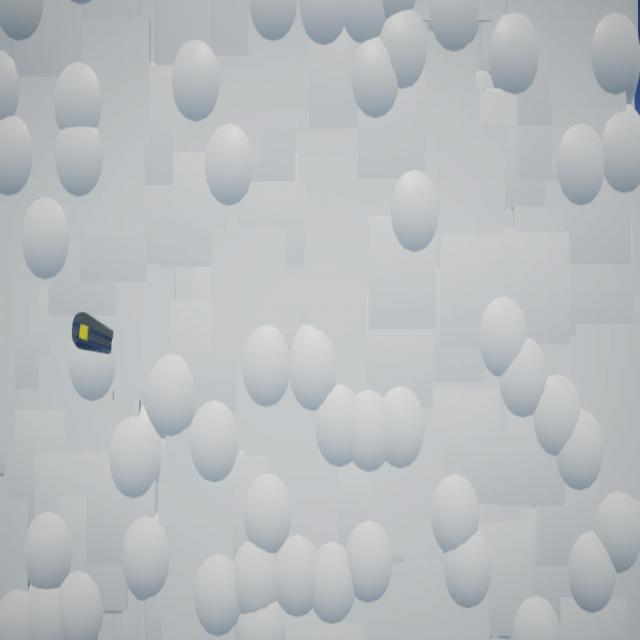handle_folk: (72, 313, 115, 356)
